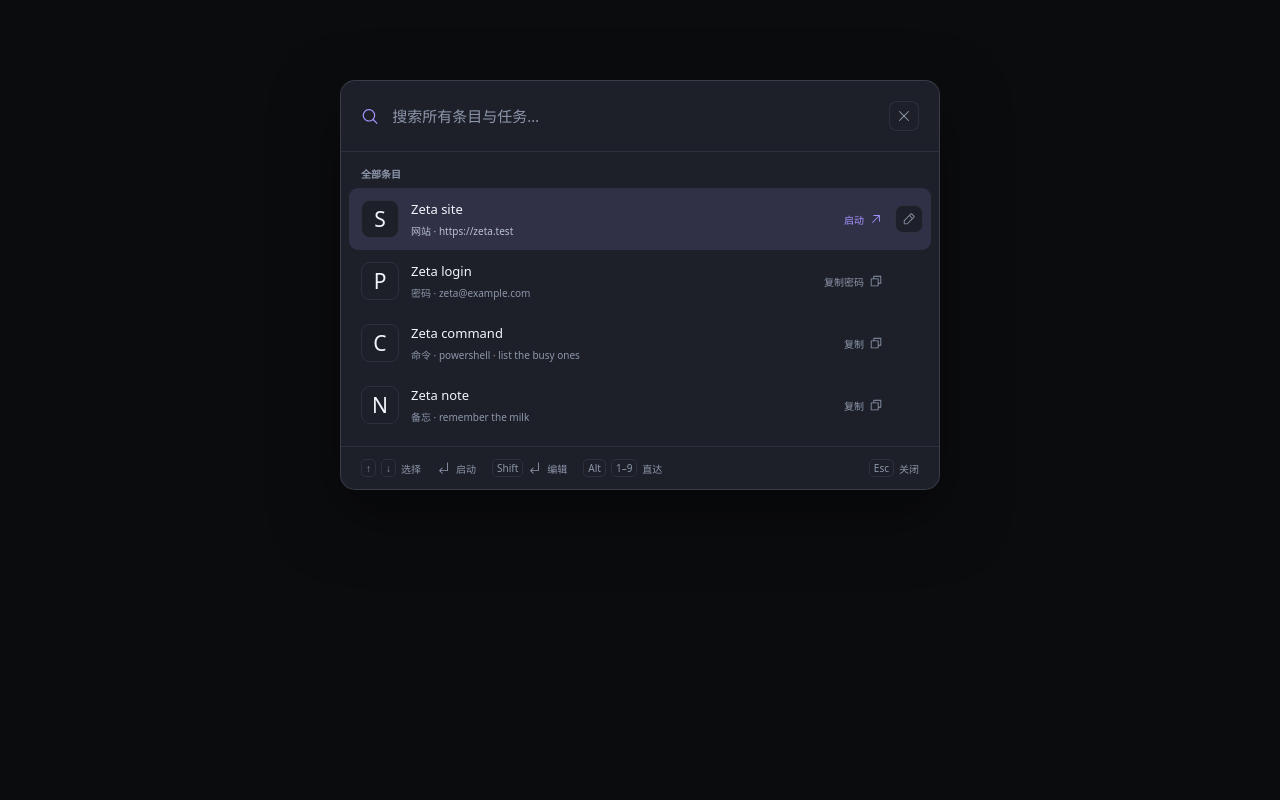
Test: the search palette: the action is on the row › speaks zh
The width and height of the screenshot is (1280, 800).
In the dropdown with test id "command-input": (634, 116) [392,106,876,126], type "zeta login"
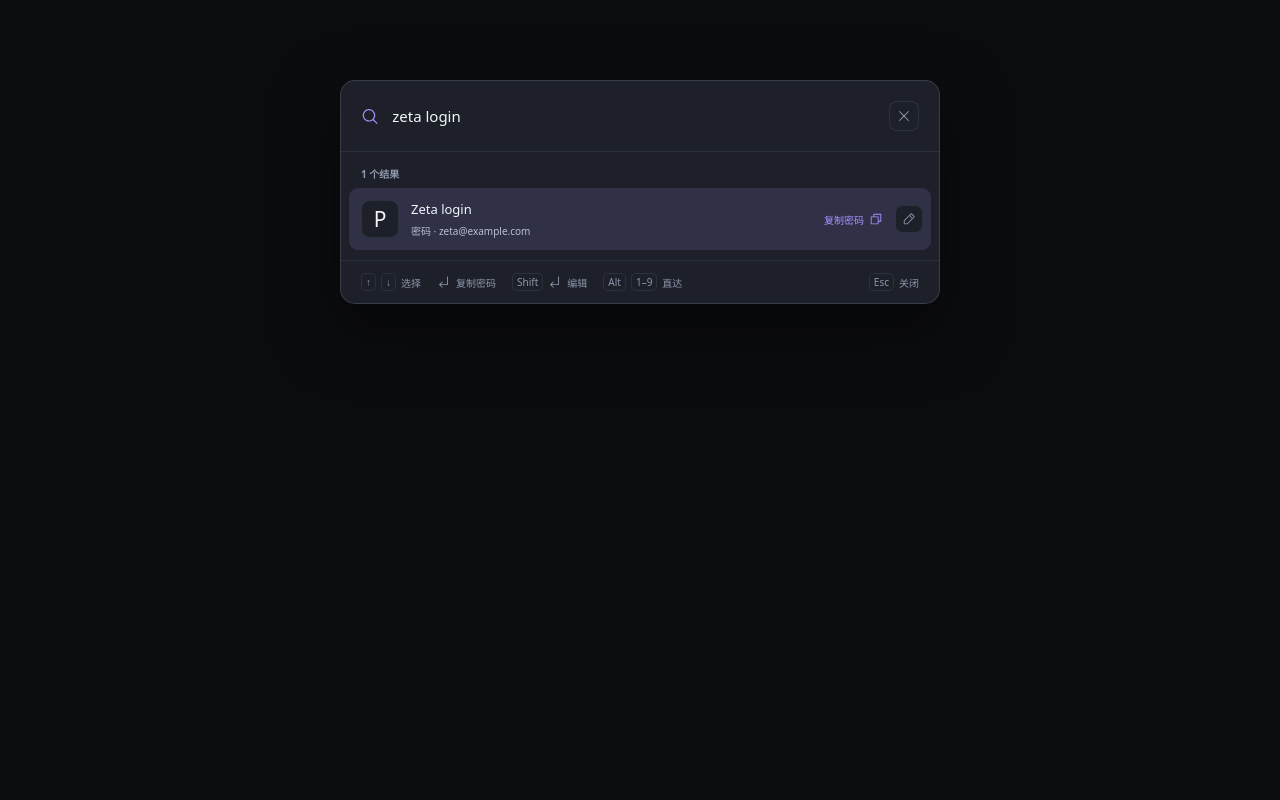
Expected: the option shows "复制密码", [349,188,895,250]
Expected: the number of options is 1, [349,188,895,250]
